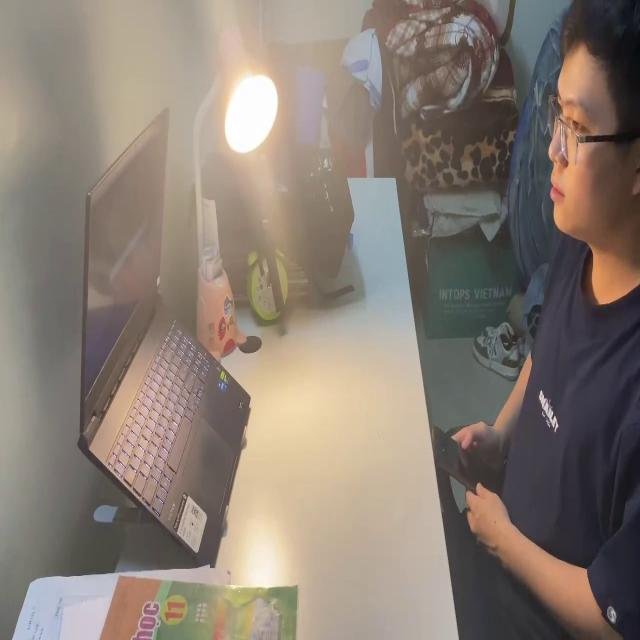book: (8, 557, 300, 640)
laptop: (71, 100, 253, 567)
phone: (431, 416, 503, 490)
student: (434, 0, 640, 640)
